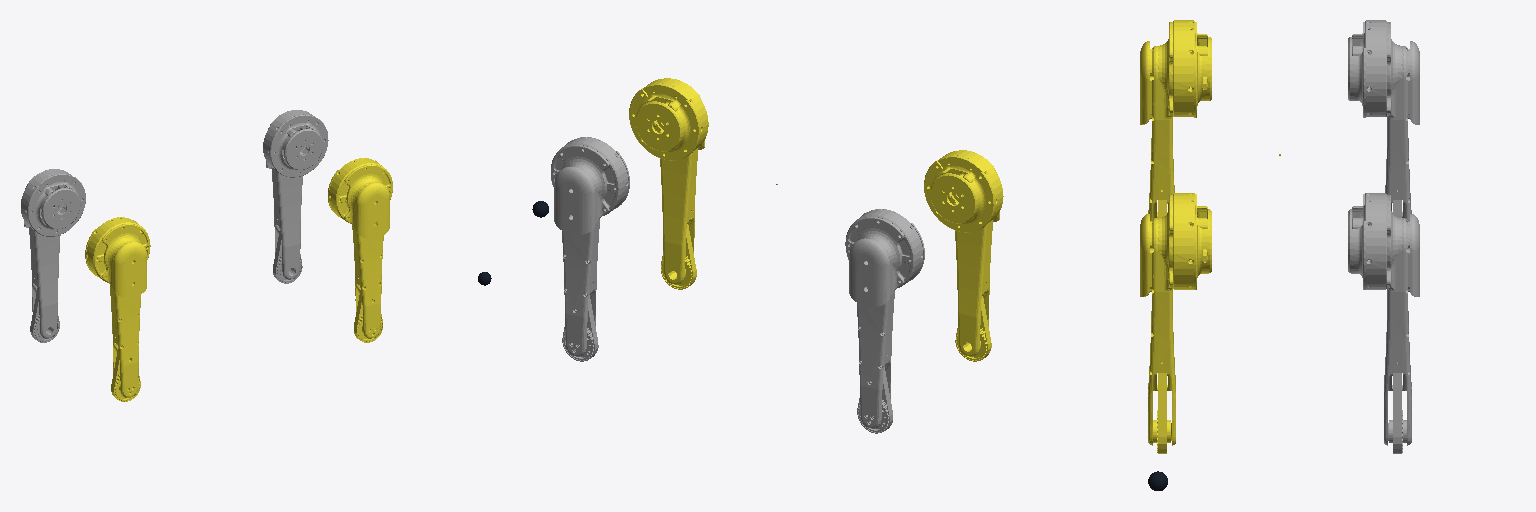
The robot description file, URDF, robot "mini_cheetah_vision":
<?xml version="1.0" ?>
<robot name="mini_cheetah_vision" xmlns:xacro="http://ros.org/wiki/xacro">
    <material name="black">
      <color rgba="0.0 0.0 0.0 1.0"/>
    </material>
    <material name="blue">
      <color rgba="0.0 0.0 0.8 1.0"/>
    </material>
    <material name="green">
      <color rgba="0.0 0.8 0.0 1.0"/>
    </material>
    <material name="grey">
      <color rgba="0.2 0.2 0.2 1.0"/>
    </material>
    <material name="silver">
      <color rgba="0.913725490196 0.913725490196 0.847058823529 1.0"/>
    </material>
    <material name="orange">
      <!-- <color rgba="1.0 0.423529411765 0.0392156862745 1.0"/> -->
      <color rgba="0.12 0.15 0.2 1.0"/>
    </material>
    <material name="brown">
      <color rgba="0.870588235294 0.811764705882 0.764705882353 1.0"/>
    </material>
    <material name="red">
      <color rgba="0.8 0.0 0.0 1.0"/>
    </material>
    <material name="white">
      <color rgba="1.0 1.0 1.0 1.0"/>
    </material>
    <link name="base">
      <visual>
        <origin rpy="0 0 0" xyz="0 0 0"/>
        <geometry>
          <box size="0.001 0.001 0.001"/>
        </geometry>
      </visual>
    </link>
    <joint name="floating_base" type="fixed">
      <origin rpy="0 0 0" xyz="0 0 0"/>
      <parent link="base"/>
      <child link="trunk"/>
    </joint>
    <link name="trunk">
        <inertial>
            <!-- <mass value="3.3"/> -->
            <mass value="2.65"/>
            <origin xyz="0.0 0.0 0.0"/>
            <inertia ixx="0.011253" ixy="0" ixz="0" iyy="0.362030" iyz="0" izz="0.042673"/>
        </inertial>
        <visual>
          <origin rpy="0.0 0.0 0.0" xyz="0.0 0.0 0.0"/>
          <geometry>
              <mesh filename="../meshes/mini_vision_body.dae" scale="1 1 1"/>
          </geometry>
          <material name="orange"/>
        </visual>
        <collision>
          <origin rpy="0 0 0" xyz="0 0 0.0"/>
          <geometry>
            <mesh filename="../meshes/mini_vision_body.dae" scale="1 1 1"/>
          </geometry>
        </collision>
    </link>

     <joint name="FR_hip_joint" type="revolute">
        <axis xyz="1 0 0"/>
        <origin rpy="0 0 0" xyz="0.14775 -0.049 0.0"/>
        <parent link="trunk"/>
        <child link="FR_hip"/>
        <dynamics damping="0.0" friction="0.0"/>
        <limit effort="17" lower="-0.8" upper="0.8" velocity="40"/>
    </joint>
    <link name="FR_hip">
        <inertial>
            <mass value="0.54"/>
            <origin xyz="0.055 -0.036 0."/>
            <inertia ixx="0.000381" ixy="0.000058" ixz="0.00000045"
                iyy="0.000560" iyz="0.00000095" izz="0.000444"/>
        </inertial>
        <visual>
            <geometry>
                <mesh filename="../meshes/mini_vision_abd.dae"/>
            </geometry>
            <origin rpy="0.0 0.0 0.0" xyz="0.0 0.0 0.0"/>
        </visual>
        <!-- <collision>
            <geometry>
                <mesh filename="../meshes/mini_vision_abd.obj"/>
            </geometry>
            <origin rpy="0. 0. 0." xyz="0. 0 0"/>
        </collision> -->
    </link>
    <joint name="FR_thigh_joint" type="revolute">
        <axis xyz="0 -1 0"/>
        <origin rpy="0.0 0.0 0.0" xyz="0.055 -0.019 0.00"/>
        <parent link="FR_hip"/>
        <child link="FR_thigh"/>
        <dynamics damping="0.0" friction="0.0"/>
        <limit effort="17" lower="-2.5" upper="1.0" velocity="40"/>
    </joint>
    <link name="FR_thigh">
        <inertial>
            <mass value="0.634"/>
            <origin xyz="0.0 0.016 -0.02"/>
            <inertia ixx="0.001983" ixy="0.000245" ixz="0.000013"
                iyy="0.002103" iyz="0.0000015" izz="0.000408"/>
        </inertial>
        <visual>
            <geometry>
                <mesh filename="../meshes/mini_vision_shank.dae"/>
            </geometry>
            <origin rpy="0.0 0.0 0.0" xyz="0.0 0.0 0.0"/>
        </visual>
        <collision>
          <origin rpy="0 1.57079632679 0" xyz="0 -0.05 -0.1"/>
          <geometry>
            <box size="0.2585 0.034 0.043"/>
          </geometry>
        </collision>
    </link>

    <joint name="FR_calf_joint" type="revolute">
        <axis xyz="0 -1 0"/>
        <origin rpy="0.0 0 0.0" xyz="0.0 -0.049 -0.2085"/>
        <parent link="FR_thigh"/>
        <child link="FR_calf"/>
        <dynamics damping="0.0" friction="0.0"/>
        <limit effort="17" lower="1.0" upper="2.5" velocity="40"/>
    </joint>
    <link name="FR_calf">
        <inertial>
            <mass value="0.064"/>
            <origin xyz="0.0 0.0 -0.061"/>
            <inertia ixx="0.000245" ixy="0" ixz="0.0" iyy="0.000248" iyz="0" izz="0.000006"/>
        </inertial>
        <visual>
            <geometry>
                <mesh filename="../meshes/lower_leg.dae"/>
            </geometry>
            <origin rpy="0.0 0.0 0.0" xyz="0.0 0.0 0.0"/>
        </visual>
        <collision>
          <origin rpy="0 0 0" xyz="0 0 -0.09"/>
          <geometry>
            <box size="0.025 0.025 0.1955"/>
          </geometry>
        </collision>
    </link>
    <joint name="FR_foot_fixed" type="fixed" dont_collapse="true">
      <origin rpy="0 0 0" xyz="0 -0.004 -0.195"/>
      <parent link="FR_calf"/>
      <child link="FR_foot"/>
    </joint>
    <!-- this link is only for collision -->
    <link name="FR_foot">
      <visual>
        <origin rpy="0 0 0" xyz="0 0 0"/>
        <geometry>
          <sphere radius="0.01"/>
        </geometry>
        <material name="orange"/>
      </visual>
      <collision>
        <origin rpy="0.0 0.0 0" xyz="0 0.0 0"/>
        <geometry>
          <sphere radius="0.0185"/>
        </geometry>
      </collision>
      <inertial>
        <mass value="0.06"/>
        <inertia ixx="9.6e-06" ixy="0.0" ixz="0.0" iyy="9.6e-06" iyz="0.0" izz="9.6e-06"/>
      </inertial>
    </link>

    <joint name="FL_hip_joint" type="revolute">
        <axis xyz="1 0 0"/>
        <origin rpy="0 0 0" xyz="0.14775 0.049 0.0"/>
        <parent link="trunk"/>
        <child link="FL_hip"/>
        <dynamics damping="0.0" friction="0.0"/>
        <limit effort="17" lower="-0.8" upper="0.8" velocity="40"/>
    </joint>
    <link name="FL_hip">
        <inertial>
            <mass value="0.54"/>
            <origin xyz="0.055 0.036 0."/>
            <inertia ixx="0.000381" ixy="0.000058" ixz="0.00000045"
                iyy="0.000560" iyz="0.00000095" izz="0.000444"/>
        </inertial>
        <visual>
            <geometry>
                <mesh filename="../meshes/mini_vision_abd.dae"/>
            </geometry>
            <origin rpy="3.141592 0.0 0.0" xyz="0.0 0.0 0.0"/>
        </visual>

    </link>

    <joint name="FL_thigh_joint" type="revolute">
        <axis xyz="0 -1 0"/>
        <origin rpy="0.0 0.0 0.0" xyz="0.055 0.019 0.00"/>
        <parent link="FL_hip"/>
        <child link="FL_thigh"/>
        <dynamics damping="0.0" friction="0.0"/>
        <limit effort="17" lower="-2.5" upper="1.0" velocity="40"/>
    </joint>
    <link name="FL_thigh">
        <inertial>
            <mass value="0.634"/>
            <origin xyz="0.0 0.016 -0.02"/>
            <inertia ixx="0.001983" ixy="0.000245" ixz="0.000013"
                iyy="0.002103" iyz="0.0000015" izz="0.000408"/>
        </inertial>
        <visual>
            <geometry>
                <mesh filename="../meshes/mini_vision_shank.dae"/>
            </geometry>
            <origin rpy="0.0 0 3.141592" xyz="0.0 0.0 0.0"/>
        </visual>
        <collision>
          <origin rpy="0 1.57079632679 0" xyz="0 0.05 -0.1"/>
          <geometry>
            <box size="0.2585 0.034 0.043"/>
          </geometry>
        </collision>
    </link>

    <joint name="FL_calf_joint" type="revolute">
        <axis xyz="0 -1 0"/>
        <origin rpy="0.0 0 0.0" xyz="0.0 0.049 -0.2085"/>
        <parent link="FL_thigh"/>
        <child link="FL_calf"/>
        <dynamics damping="0.0" friction="0.0"/>
        <limit effort="17" lower="1.0" upper="2.5" velocity="40"/>
    </joint>
    <link name="FL_calf">
        <inertial>
            <mass value="0.064"/>
            <origin xyz="0.0 0.0 -0.061"/>
            <inertia ixx="0.000245" ixy="0" ixz="0.0" iyy="0.000248" iyz="0" izz="0.000006"/>
        </inertial>
        <visual>
            <geometry>
                <mesh filename="../meshes/lower_leg.dae"/>
            </geometry>
            <origin rpy="0.0 0.0 3.141592" xyz="0.0 0.0 0.0"/>
        </visual>

        <collision>
          <origin rpy="0 0 0" xyz="0 0 -0.09"/>
          <geometry>
            <box size="0.025 0.025 0.1955"/>
          </geometry>
        </collision>
    </link>
    <joint name="FL_foot_fixed" type="fixed" dont_collapse="true">
      <origin rpy="0 0 0" xyz="0 0.004 -0.195"/>
      <parent link="FL_calf"/>
      <child link="FL_foot"/>
    </joint>
    <!-- this link is only for collision -->
    <link name="FL_foot">
      <collision>
        <origin rpy="0.0 0.0 0" xyz="0 0.0 0"/>
        <geometry>
          <sphere radius="0.0185"/>
        </geometry>
      </collision>
      <inertial>
        <mass value="0.06"/>
        <inertia ixx="9.6e-06" ixy="0.0" ixz="0.0" iyy="9.6e-06" iyz="0.0" izz="9.6e-06"/>
      </inertial>
    </link>

    <joint name="RR_hip_joint" type="revolute">
        <axis xyz="-1 0 0"/>
        <origin rpy="0 3.141592 0" xyz="-0.14775 -0.049 0.0"/>
        <parent link="trunk"/>
        <child link="RR_hip"/>
        <dynamics damping="0.0" friction="0.0"/>
        <limit effort="17" lower="-0.8" upper="0.8" velocity="40"/>
    </joint>
    <link name="RR_hip">
        <inertial>
            <mass value="0.54"/>
            <origin xyz="0.055 -0.036 0."/>
            <inertia ixx="0.000381" ixy="0.000058" ixz="0.00000045"
                iyy="0.000560" iyz="0.00000095" izz="0.000444"/>
        </inertial>
        <visual>
            <geometry>
                <mesh filename="../meshes/mini_vision_abd.dae"/>
            </geometry>
            <origin rpy="0.0 0.0 0.0" xyz="0.0 0.0 0.0"/>
        </visual>
    </link>

    <joint name="RR_thigh_joint" type="revolute">
        <axis xyz="0 -1 0"/>
        <origin rpy="0.0 3.141592 0.0" xyz="0.055 -0.019 0.00"/>
        <parent link="RR_hip"/>
        <child link="RR_thigh"/>
        <dynamics damping="0.0" friction="0.0"/>
        <limit effort="17" lower="-2.5" upper="1.0" velocity="40"/>
    </joint>
    <link name="RR_thigh">
        <inertial>
            <mass value="0.634"/>
            <origin xyz="0.0 0.016 -0.02"/>
            <inertia ixx="0.001983" ixy="0.000245" ixz="0.000013"
                iyy="0.002103" iyz="0.0000015" izz="0.000408"/>
        </inertial>
        <visual>
            <geometry>
                <mesh filename="../meshes/mini_vision_shank.dae"/>
            </geometry>
            <origin rpy="0.0 0.0 0.0" xyz="0.0 0.0 0.0"/>
        </visual>
        <collision>
          <origin rpy="0 1.57079632679 0" xyz="0 -0.05 -0.1"/>
          <geometry>
            <box size="0.2585 0.034 0.043"/>
          </geometry>
        </collision>
    </link>

    <joint name="RR_calf_joint" type="revolute">
        <axis xyz="0 -1 0"/>
        <origin rpy="0.0 0 0.0" xyz="0.0 -0.049 -0.2085"/>
        <parent link="RR_thigh"/>
        <child link="RR_calf"/>
        <dynamics damping="0.0" friction="0.0"/>
        <limit effort="17"  lower="1.0" upper="2.5" velocity="40"/>
    </joint>
    <link name="RR_calf">
        <inertial>
            <mass value="0.064"/>
            <origin xyz="0.0 0.0 -0.061"/>
            <inertia ixx="0.000245" ixy="0" ixz="0.0" iyy="0.000248" iyz="0" izz="0.000006"/>
        </inertial>
        <visual>
            <geometry>
                <mesh filename="../meshes/lower_leg.dae"/>
            </geometry>
            <origin rpy="0.0 0.0 0.0" xyz="0.0 0.0 0.0"/>
        </visual>
        <collision>
          <origin rpy="0 0 0" xyz="0 0 -0.09"/>
          <geometry>
            <box size="0.025 0.025 0.1955"/>
          </geometry>
        </collision>
    </link>
    <joint name="RR_foot_fixed" type="fixed" dont_collapse="true">
      <origin rpy="0 0 0" xyz="0 -0.004 -0.195"/>
      <parent link="RR_calf"/>
      <child link="RR_foot"/>
    </joint>
    <!-- this link is only for collision -->
    <link name="RR_foot">
      <collision>
        <origin rpy="0.0 0.0 0" xyz="0 0.0 0"/>
        <geometry>
          <sphere radius="0.0185"/>
        </geometry>
      </collision>
      <inertial>
        <mass value="0.06"/>
        <inertia ixx="9.6e-06" ixy="0.0" ixz="0.0" iyy="9.6e-06" iyz="0.0" izz="9.6e-06"/>
      </inertial>
    </link>

    <joint name="RL_hip_joint" type="revolute">
        <axis xyz="-1 0 0"/>
        <origin rpy="0 3.141592 0" xyz="-0.14775 0.049 0.0"/>
        <parent link="trunk"/>
        <child link="RL_hip"/>
        <dynamics damping="0.0" friction="0.0"/>
        <limit effort="17" lower="-0.8" upper="0.8" velocity="40"/>
    </joint>
    <link name="RL_hip">
        <inertial>
            <mass value="0.54"/>
            <origin xyz="0.055 0.036 0."/>
            <inertia ixx="0.000381" ixy="0.000058" ixz="0.00000045"
                iyy="0.000560" iyz="0.00000095" izz="0.000444"/>
        </inertial>
        <visual>
            <geometry>
                <mesh filename="../meshes/mini_vision_abd.dae"/>
            </geometry>
            <origin rpy="3.141592 0.0 0.0" xyz="0.0 0.0 0.0"/>
        </visual>
    </link>

    <joint name="RL_thigh_joint" type="revolute">
        <axis xyz="0 -1 0"/>
        <origin rpy="0.0 3.141592 0.0" xyz="0.055 0.019 0.00"/>
        <parent link="RL_hip"/>
        <child link="RL_thigh"/>
        <dynamics damping="0.0" friction="0.0"/>
        <limit effort="17" lower="-2.5" upper="1.0" velocity="40"/>
    </joint>
    <link name="RL_thigh">
        <inertial>
            <mass value="0.634"/>
            <origin xyz="0.0 0.016 -0.02"/>
            <inertia ixx="0.001983" ixy="0.000245" ixz="0.000013"
                iyy="0.002103" iyz="0.0000015" izz="0.000408"/>
        </inertial>
        <visual>
            <geometry>
                <mesh filename="../meshes/mini_vision_shank.dae"/>
            </geometry>
            <origin rpy="0.0 0 3.141592" xyz="0.0 0.0 0.0"/>
        </visual>
        <collision>
          <origin rpy="0 1.57079632679 0" xyz="0.0 0.05 -0.1"/>
          <geometry>
            <box size="0.2585 0.034 0.043"/>
          </geometry>
        </collision>
    </link>

    <joint name="RL_calf_joint" type="revolute">
        <axis xyz="0 -1 0"/>
        <origin rpy="0.0 0 0.0" xyz="0.0 0.049 -0.2085"/>
        <parent link="RL_thigh"/>
        <child link="RL_calf"/>
        <dynamics damping="0.0" friction="0.0"/>
        <limit effort="17" lower="1.0" upper="2.5" velocity="40"/>
    </joint>
    <link name="RL_calf">
        <inertial>
            <mass value="0.064"/>
            <origin xyz="0.0 0.0 -0.061"/>
            <inertia ixx="0.000245" ixy="0" ixz="0.0" iyy="0.000248" iyz="0" izz="0.000006"/>
        </inertial>
        <visual>
            <geometry>
                <mesh filename="../meshes/lower_leg.dae"/>
            </geometry>
            <origin rpy="0.0 0.0 3.141592" xyz="0.0 0.0 0.0"/>
        </visual>
        <collision>
          <origin rpy="0 0 0" xyz="0 0 -0.09"/>
          <geometry>
            <box size="0.025 0.025 0.1955"/>
          </geometry>
        </collision>
    </link>
    <joint name="RL_foot_fixed" type="fixed" dont_collapse="true">
      <origin rpy="0 0 0" xyz="0 0.004 -0.195"/>
      <parent link="RL_calf"/>
      <child link="RL_foot"/>
    </joint>
    <!-- this link is only for collision -->
    <link name="RL_foot">
      <collision>
        <origin rpy="0.0 0.0 0" xyz="0 0 0"/>
        <geometry>
          <sphere radius="0.0185"/>
        </geometry>
      </collision>
      <inertial>
        <mass value="0.06"/>
        <inertia ixx="9.6e-06" ixy="0.0" ixz="0.0" iyy="9.6e-06" iyz="0.0" izz="9.6e-06"/>
      </inertial>
    </link>
</robot>

--- What the picture shows (computed from the rendered views, not written in the file) ---
3 views of the same robot in one strip: view 1: azimuth 30°, elevation 25°; view 2: azimuth 150°, elevation 25°; view 3: azimuth 270°, elevation 25° (orthographic).
Robot: mini_cheetah_vision — 18 links, 17 joints (12 revolute, 5 fixed); root link base; default pose: joints at zero except 4 at the middle of their limits (FR_calf_joint = 1.75, FL_calf_joint = 1.75, RR_calf_joint = 1.75, RL_calf_joint = 1.75).
Links seen in each view (by area): view 1: FR_thigh, RR_thigh, FL_thigh, RL_thigh; view 2: RL_thigh, FL_thigh, FR_thigh, RR_thigh; view 3: FL_thigh, FR_thigh, RR_thigh, RL_thigh.
Link boxes in pixels (box(x1,y1,x2,y2)): FR_thigh: box(328, 158, 392, 342); RR_thigh: box(85, 217, 150, 401); FL_thigh: box(263, 110, 328, 283); RL_thigh: box(21, 169, 85, 342); RL_thigh: box(845, 209, 924, 433); FL_thigh: box(551, 137, 629, 361); FR_thigh: box(629, 78, 708, 289); RR_thigh: box(924, 150, 1003, 361); FL_thigh: box(1348, 193, 1419, 453); FR_thigh: box(1140, 193, 1211, 453); RR_thigh: box(1140, 20, 1211, 220); RL_thigh: box(1348, 20, 1419, 220).
Size in the robot's own frame: 0.6561 by 0.2785 by 0.2785 metres.
4 mesh visuals loaded from 4 distinct referenced files (1 Collada DAE); not drawn: 9 (reference not matched to a file when rendering).